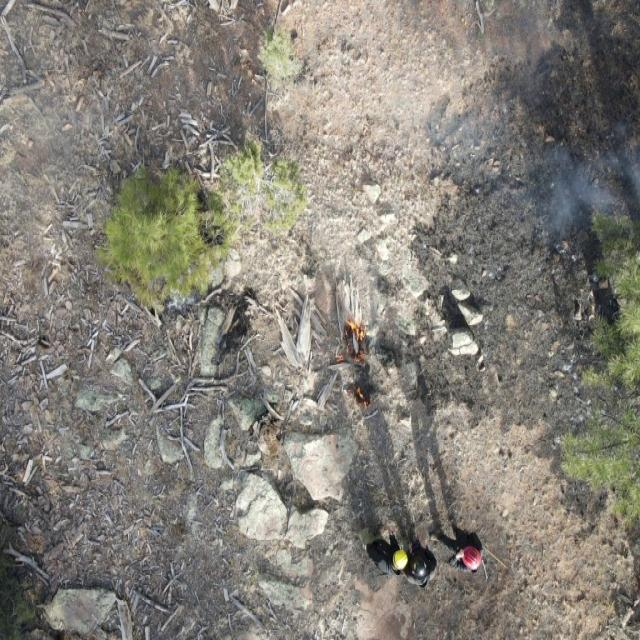fire: (334, 316, 369, 364), (346, 381, 370, 411)
smoke: (414, 5, 640, 240), (0, 5, 90, 256)
